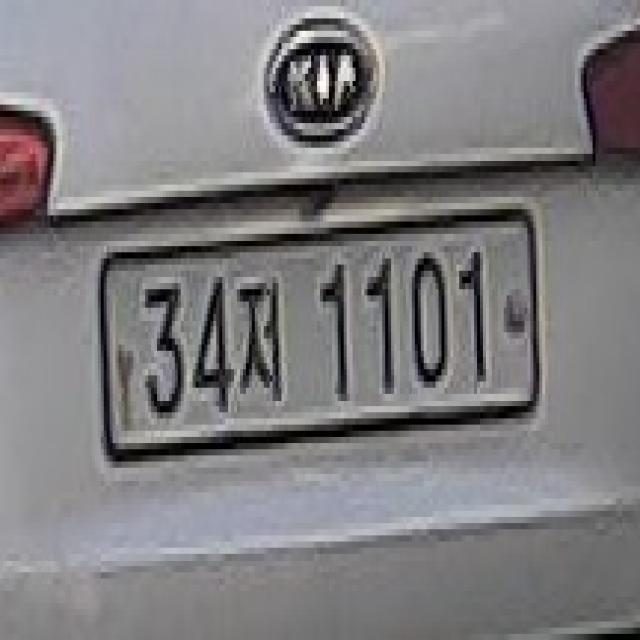0: (409, 246, 447, 388)
1: (362, 246, 394, 400), (320, 259, 350, 406), (456, 246, 486, 388)
3: (142, 271, 187, 418)
4: (190, 277, 234, 412)
jeo: (234, 277, 285, 400)
license_plate: (98, 203, 545, 468)
